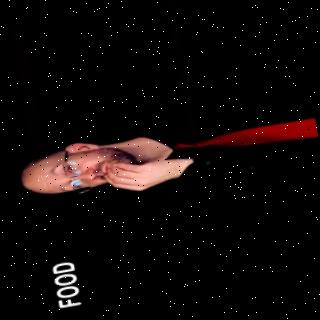Food: (9, 84, 306, 221)
